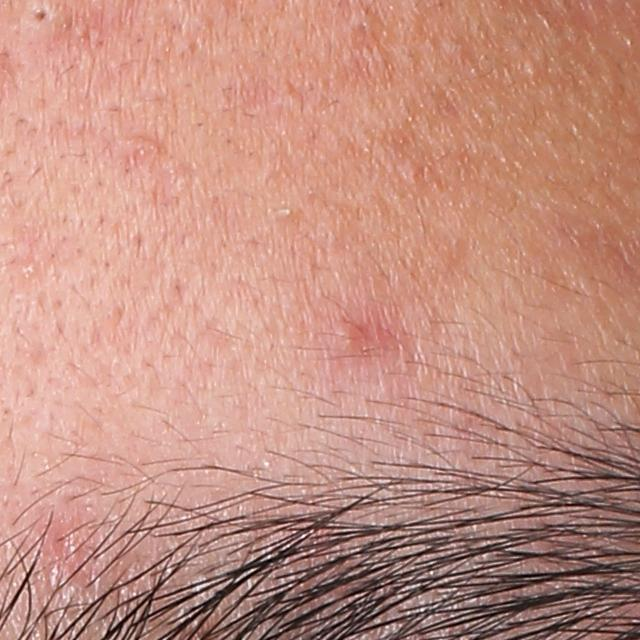comedo: (30, 6, 55, 31), (519, 58, 543, 84)
